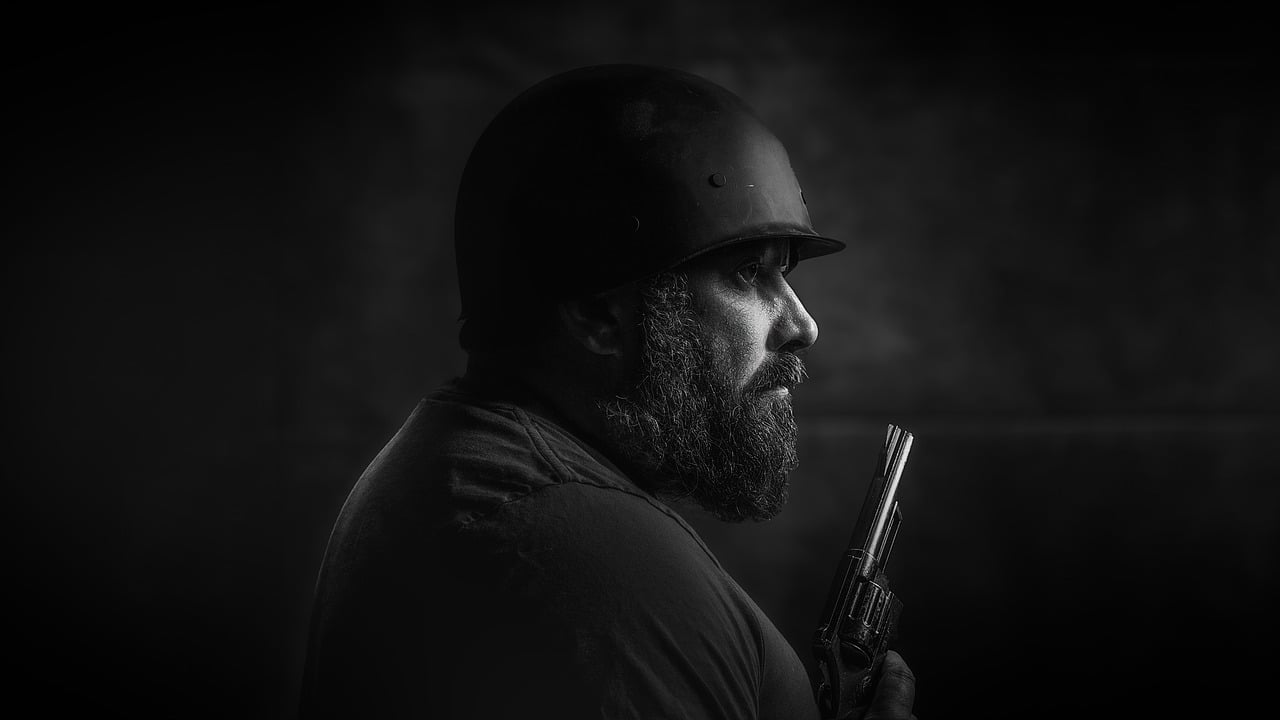gun: (802, 418, 919, 720)
